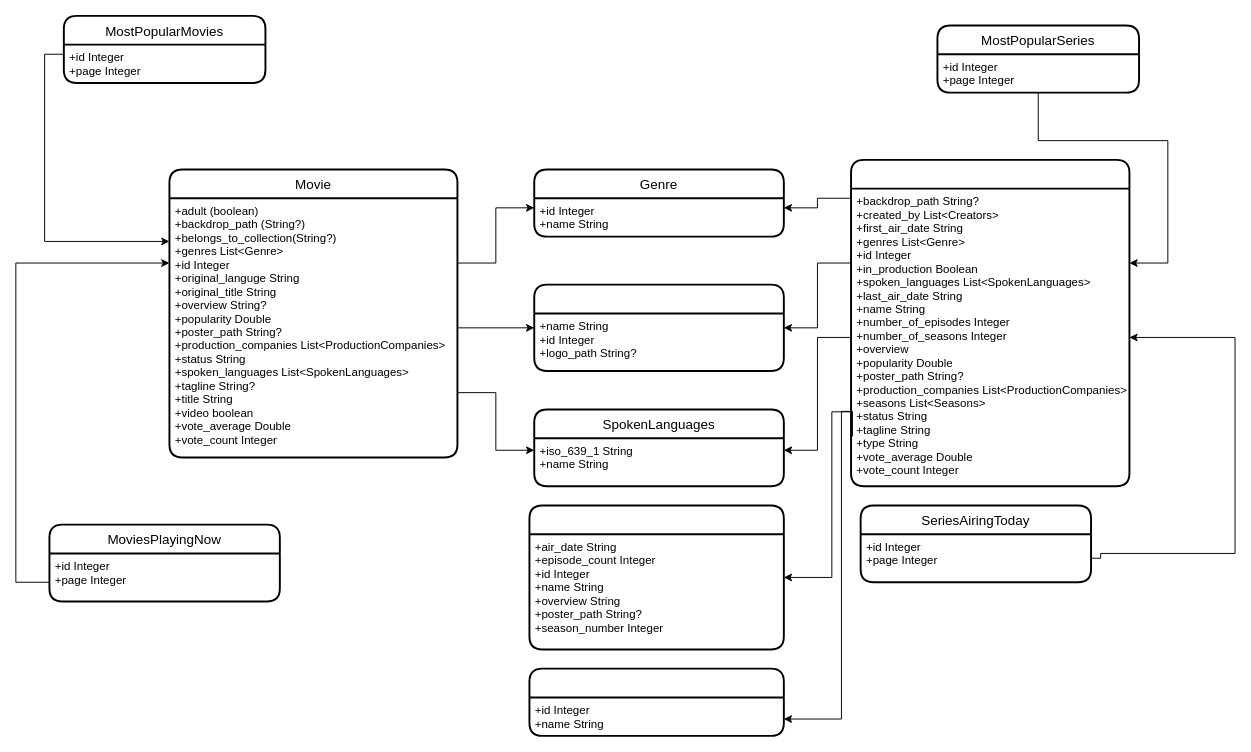
Some shapes in this 1251 by 752 pixel diagram are drawn without their labels. Here are the shapes that lost their labels. From the top down, the box of each, then its label:
(533, 283, 784, 372): ProductionCompanies
(850, 158, 1130, 487): TVSerie
(528, 504, 784, 650): Seasons
(528, 667, 784, 736): Creators
